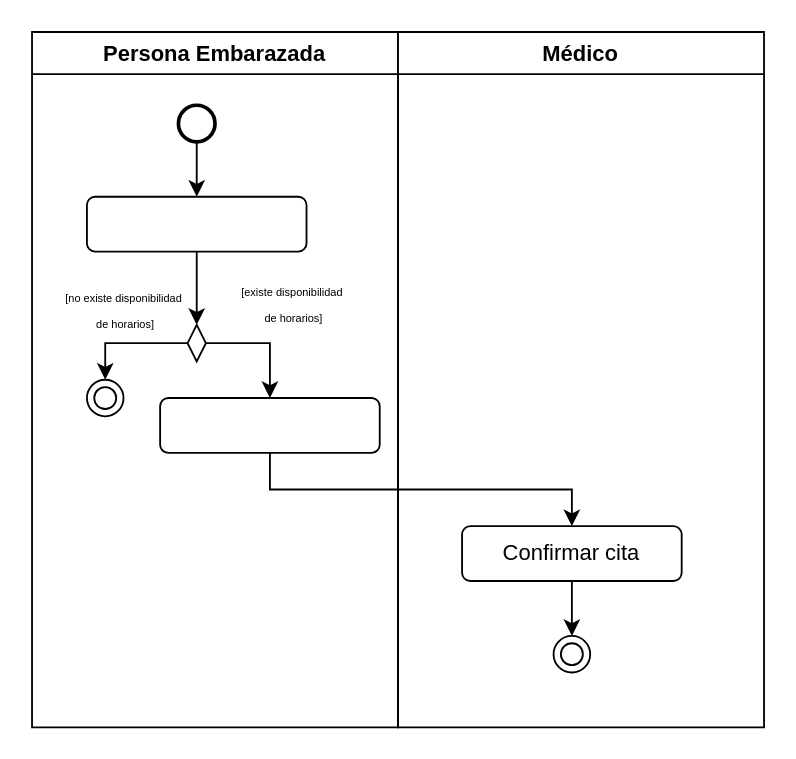
Image size: 796x759. Some labels were removed from this diagram. Here are the shapes that lost their labels. From the top down, the centre of each, then its label:
At (x=196, y=223): "Revisar disponibilidad de horarios.".
At (x=269, y=424): "Proporcionar datos personales".
